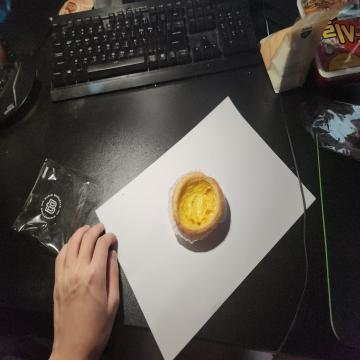EggTart: (172, 170, 225, 238)
